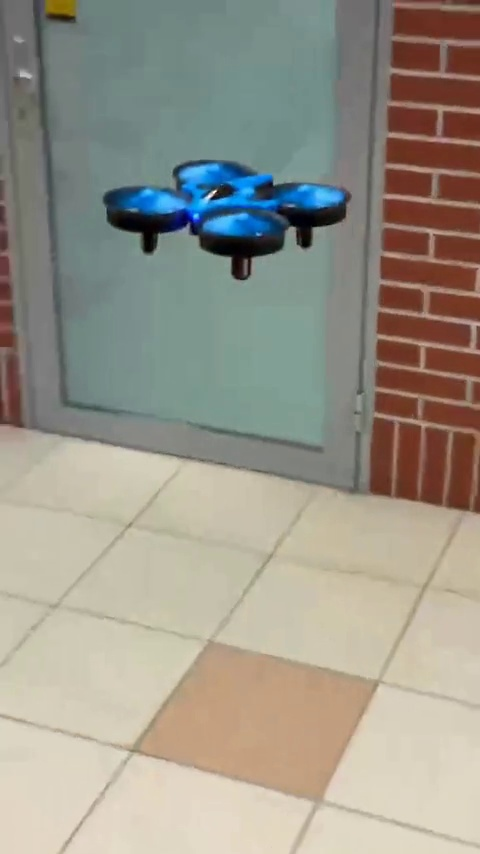drone: (104, 153, 346, 273)
